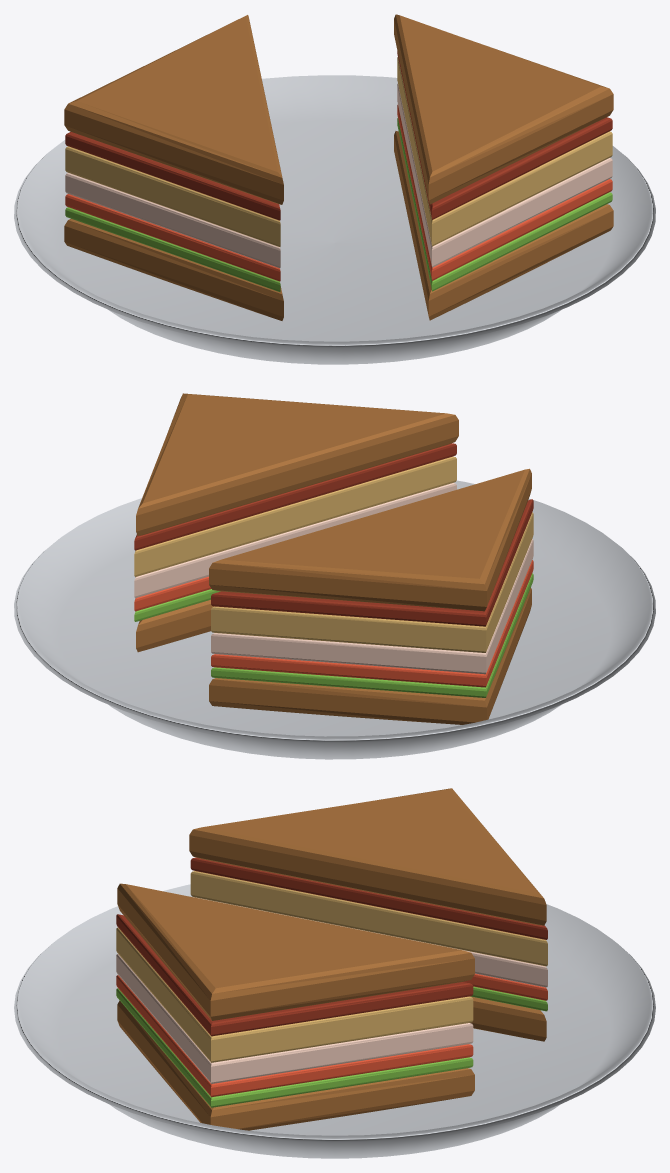
File: mezzogiorno-club-sandwich-del-chiosco.glb
The picture shows the model from 3 angles, top to bottom: view 1: azimuth 30°, elevation 25°; view 2: azimuth 150°, elevation 25°; view 3: azimuth 270°, elevation 25°; orthographic projection.
Bounding box in the file's own units: 0.22 × 0.0605 × 0.22.
